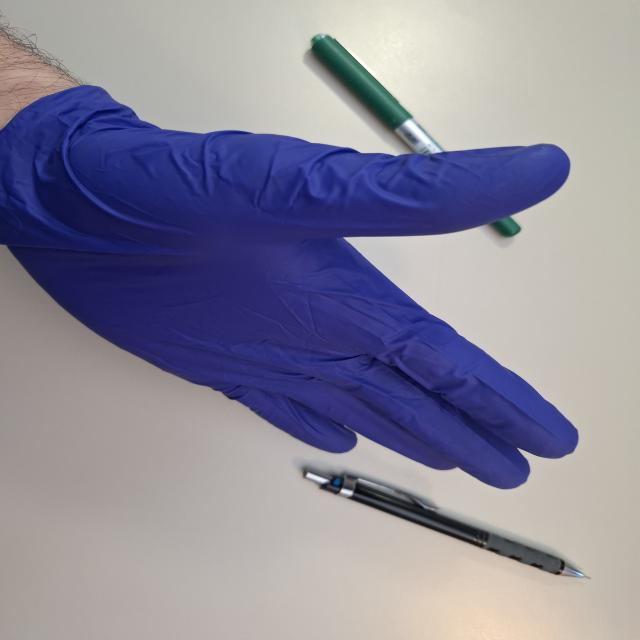glove_on: (0, 84, 584, 494)
